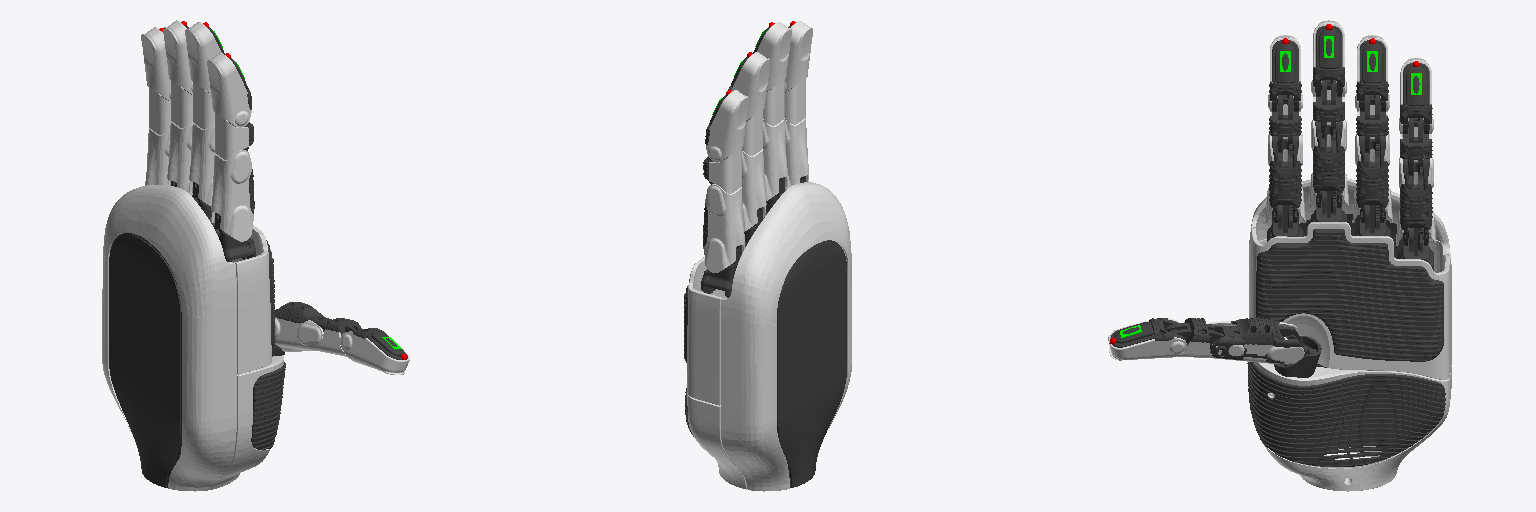
--- Facts derived from the render (not from the file) ---
Views: 3 orthographic renders of the robot side by side, from view 1: azimuth 30°, elevation 25°; view 2: azimuth 150°, elevation 25°; view 3: azimuth 270°, elevation 25°.
Model dexhand021_left with 68 links and 67 joints (20 revolute, 47 fixed), rooted at left_hand_base, posed every joint at zero.
Links seen in each view (by area): view 1: l_p_link6, l_p_link1, l_p_link2, l_f_link2_2_2, l_p_link4, l_f_link2_4_2, l_p_link5, l_f_link3_2_2, l_f_link3_4_2, l_f_link5_4_2, l_f_link1_4_2, l_f_link4_4_2 (+9 smaller); view 2: l_p_link6, l_p_link1, l_p_link2, l_f_link5_2_2, l_p_link4, l_f_link5_4_2, l_f_link4_2_2, l_f_link3_2_2, l_f_link4_4_2, l_f_link3_4_2, l_f_link2_4_2, l_f_link2_2_2 (+5 smaller); view 3: l_p_link3, l_p_link5, l_p_link2, l_p_link4, l_p_link6, l_f_link5_2_1, l_f_link3_2_1, l_f_link2_2_1, l_f_link4_2_1, l_f_link1_4_2, l_f_link1_2, l_f_link1_2_2 (+28 smaller).
Boxes of the visible links, box(x1,y1,x2,y2) form: l_p_link6: box(102, 185, 236, 491); l_p_link1: box(109, 233, 181, 487); l_p_link2: box(232, 225, 271, 374); l_f_link2_2_2: box(211, 150, 253, 241); l_p_link4: box(212, 355, 283, 489); l_f_link2_4_2: box(207, 53, 251, 127); l_p_link5: box(251, 362, 285, 449); l_f_link3_2_2: box(189, 122, 214, 205); l_f_link3_4_2: box(185, 22, 221, 93); l_f_link5_4_2: box(141, 27, 170, 101); l_f_link1_4_2: box(340, 331, 409, 374); l_f_link4_4_2: box(163, 20, 192, 94); l_p_link6: box(721, 182, 851, 491); l_p_link1: box(777, 240, 846, 487); l_p_link2: box(687, 257, 726, 405); l_f_link5_2_2: box(703, 184, 744, 272); l_p_link4: box(687, 393, 746, 489); l_f_link5_4_2: box(706, 90, 748, 162); l_f_link4_2_2: box(742, 149, 766, 231); l_f_link3_2_2: box(763, 118, 787, 200); l_f_link4_4_2: box(731, 52, 770, 120); l_f_link3_4_2: box(757, 22, 791, 90); l_f_link2_4_2: box(785, 21, 812, 91); l_f_link2_2_2: box(785, 118, 808, 189); l_p_link3: box(1256, 229, 1443, 361); l_p_link5: box(1247, 362, 1445, 466); l_p_link2: box(1249, 222, 1451, 379); l_p_link4: box(1254, 362, 1451, 491); l_p_link6: box(1249, 178, 1451, 388); l_f_link5_2_1: box(1400, 184, 1432, 229); l_f_link3_2_1: box(1313, 146, 1344, 192); l_f_link2_2_1: box(1269, 161, 1301, 207); l_f_link4_2_1: box(1356, 161, 1388, 207); l_f_link1_4_2: box(1108, 318, 1186, 360); l_f_link1_2: box(1210, 326, 1302, 363); l_f_link1_2_2: box(1209, 321, 1304, 363).
Bounding box of the posed robot: 0.0957 × 0.1915 × 0.2768 m (x, y, z).
56 mesh visuals loaded from 57 distinct referenced files (56 binary STL); not drawn: 1 (reference not matched to a file when rendering).

The robot description file, URDF, robot "dexhand021_left":
<robot name="dexhand021_left">

  <mujoco>
    <compiler meshdir="../meshes/dexhand021" balanceinertia="true" discardvisual="false" />
  </mujoco>

  <link name="left_hand_base" />

  <joint name="left_base_to_hand" type="fixed">
    <parent link="left_hand_base" />
    <child link="l_p_link0" />
    <origin xyz="0. 0. -0.17" rpy="0 0 1.57" />
  </joint>

  <link name="l_p_link0">
    <inertial>
      <origin xyz="-0.0005340340782799666 -0.0030739671736089423 0.2580979226195014" rpy="0 0 0" />
      <mass value="0.4582127297726252" />
      <inertia ixx="0.0008682603987855573" ixy="-4.647872477702509e-06"
        ixz="-1.9994715059692555e-06" iyy="0.0011955717530257226" iyz="4.26720458052884e-05"
        izz="0.00046834351454589116" />
    </inertial>
    <visual>
      <origin xyz="0 0 0" rpy="0 0 0" />
      <geometry>
        <mesh filename="../meshes/dexhand021/l_p_link0.STL" />
      </geometry>
      <material name="">
        <color rgba="0.3 0.3 0.3 1" />
      </material>
    </visual>
    <collision>
      <origin xyz="0 0 0" rpy="0 0 0" />
      <geometry>
        <mesh filename="../meshes/dexhand021/l_p_link0.STL" />
      </geometry>
    </collision>
  </link>

  <link name="l_f_link1_1">
    <inertial>
      <origin xyz="0.002052234666759825 -0.005273334526360467 -0.017766417143674378" rpy="0 0 0" />
      <mass value="0.005180345836222872" />
      <inertia ixx="1.1430624429635148e-06" ixy="-2.1632825990418803e-08"
        ixz="-9.945444780275452e-08" iyy="1.1661466974877877e-06" iyz="-2.1793835308526277e-07"
        izz="3.1537914003827447e-07" />
    </inertial>
    <visual>
      <origin xyz="0 0 0" rpy="0 0 0" />
      <geometry>
        <mesh filename="../meshes/dexhand021/l_f_link1_1.STL" />
      </geometry>
      <material name="">
        <color rgba="0.3 0.3 0.3 1" />
      </material>
    </visual>
    <collision>
      <origin xyz="0 0 0" rpy="0 0 0" />
      <geometry>
        <mesh filename="../meshes/dexhand021/l_f_link1_1.STL" />
      </geometry>
    </collision>
  </link>

  <joint name="l_f_joint1_1" type="revolute">
    <origin xyz="-0.023855 -0.031204 0.27607" rpy="0 -0.15197 -2.8876" />
    <parent link="l_p_link0" />
    <child link="l_f_link1_1" />
    <axis xyz="0 0.26521 0.96419" />
    <limit lower="0" upper="2.2" effort="10" velocity="1.5" />
    <joint_properties damping="0.3" friction="0.5" />
  </joint>

  <link name="l_f_link1_2">
    <inertial>
      <origin xyz="0.021535504665713627 0.000506377639770679 -0.0008142325238397076" rpy="0 0 0" />
      <mass value="0.005145873046733005" />
      <inertia ixx="2.0955625734077272e-07" ixy="-9.153029438540082e-09"
        ixz="1.1384864653981019e-10" iyy="1.060406958470173e-06" iyz="-1.130625438040032e-09"
        izz="1.044207336185289e-06" />
    </inertial>
    <visual>
      <origin xyz="0 0 0" rpy="0 0 0" />
      <geometry>
        <mesh filename="../meshes/dexhand021/l_f_link1_2.STL" />
      </geometry>
      <material name="">
        <color rgba="0.3 0.3 0.3 1" />
      </material>
    </visual>
    <collision>
      <origin xyz="0 0 0" rpy="0 0 0" />
      <geometry>
        <mesh filename="../meshes/dexhand021/l_f_link1_2.STL" />
      </geometry>
    </collision>
  </link>

  <joint name="l_f_joint1_2" type="revolute">
    <origin xyz="0.0083307 0 0" rpy="1.30243 -0.018415 0.0050658" />
    <parent link="l_f_link1_1" />
    <child link="l_f_link1_2" />
    <axis xyz="0 0 1" />
    <limit lower="0" upper="1.3" effort="10" velocity="1.5" />
    <joint_properties damping="0.3" friction="0.6" />
  </joint>

  <link name="l_f_link1_3">
    <inertial>
      <origin xyz="0.013223206653742587 0.0007239105528827508 -0.0012977744957348464" rpy="0 0 0" />
      <mass value="0.003510129470235022" />
      <inertia ixx="1.0264326739891652e-07" ixy="-1.0034384004261486e-08"
        ixz="1.537174856934156e-09" iyy="3.145228617298639e-07" iyz="-3.5848718337208966e-11"
        izz="3.260539360948065e-07" />
    </inertial>
    <visual>
      <origin xyz="0 0 0" rpy="3.14 0 0" />
      <geometry>
        <mesh filename="../meshes/dexhand021/l_f_link1_3.STL" />
      </geometry>
      <material name="">
        <color rgba="0.3 0.3 0.3 1" />
      </material>
    </visual>
    <collision>
      <origin xyz="0 0 0" rpy="3.14 0 0" />
      <geometry>
        <mesh filename="../meshes/dexhand021/l_f_link1_3.STL" />
      </geometry>
    </collision>
  </link>

  <joint name="l_f_joint1_3" type="revolute">
    <origin xyz="0.043 0 0" rpy="0 0 0" />
    <parent link="l_f_link1_2" />
    <child link="l_f_link1_3" />
    <axis xyz="0 0 1" />
    <limit lower="0" upper="1.3" effort="10" velocity="1.5" />
    <joint_properties damping="0.3" friction="0.6" />
  </joint>

  <link name="l_f_link1_4">
    <inertial>
      <origin xyz="0.016827162591071785 0.002542844173764781 -0.0012898514109792828" rpy="0 0 0" />
      <mass value="0.004357667635534957" />
      <inertia ixx="1.7288868644056656e-07" ixy="-7.193280428920156e-08"
        ixz="-9.525535641984676e-11" iyy="5.475564752014148e-07" iyz="-4.665173458394984e-11"
        izz="5.333289098973524e-07" />
    </inertial>
    <visual>
      <origin xyz="0 0 0" rpy="3.14 0 0" />
      <geometry>
        <mesh filename="../meshes/dexhand021/l_f_link1_4.STL" />
      </geometry>
      <material name="">
        <color rgba="0.3 0.3 0.3 1" />
      </material>
    </visual>
    <collision>
      <origin xyz="0 0 0" rpy="3.14 0 0" />
      <geometry>
        <mesh filename="../meshes/dexhand021/l_f_link1_4.STL" />
      </geometry>
    </collision>
  </link>

  <joint name="l_f_joint1_4" type="revolute">
    <origin xyz="0.025 0 0" rpy="0 0 0" />
    <parent link="l_f_link1_3" />
    <child link="l_f_link1_4" />
    <axis xyz="0 0 1" />
    <limit lower="0" upper="1.3" effort="10" velocity="1.5" />
    <joint_properties damping="0.3" friction="0.6" />
  </joint>

  <link name="l_f_link1_4_1">
    <inertial>
      <origin xyz="0.00976545037672086 -0.006088691115389994 -0.0012928496119325166" rpy="0 0 0" />
      <mass value="0.0003728592379595507" />
      <inertia ixx="1.0806913723931537e-08" ixy="1.4343552260771358e-10"
        ixz="-7.904655850851082e-13" iyy="1.2799737605046901e-08" iyz="9.706813447028242e-14"
        izz="2.9719855154096667e-09" />
    </inertial>
    <visual>
      <origin xyz="0 0 0" rpy="3.14 0 0" />
      <geometry>
        <mesh filename="../meshes/dexhand021/l_f_link1_4_1.STL" />
      </geometry>
      <material name="">
        <color rgba="0.3 0.3 0.3 1" />
      </material>
    </visual>
    <collision>
      <origin xyz="0 0 0" rpy="3.14 0 0" />
      <geometry>
        <mesh filename="../meshes/dexhand021/l_f_link1_4_1.STL" />
      </geometry>
    </collision>
  </link>

  <joint name="l_f_joint1_4_1" type="fixed">
    <origin xyz="0 0 0" rpy="0 0 0" />
    <parent link="l_f_link1_4" />
    <child link="l_f_link1_4_1" />
    <axis xyz="0 0 0" />
  </joint>

  <link name="l_f_link1_4_2">
    <inertial>
      <origin xyz="0.015433183993485528 0.006148726662184262 -0.0012940973222225634" rpy="0 0 0" />
      <mass value="0.0019468120967671353" />
      <inertia ixx="1.4302400339125914e-07" ixy="-4.887309828405806e-08" ixz="5.685919131349908e-11"
        iyy="3.26257386209023e-07" iyz="7.480451441953261e-12" izz="2.8666011571660654e-07" />
    </inertial>
    <visual>
      <origin xyz="0 0 0" rpy="3.14 0 0" />
      <geometry>
        <mesh filename="../meshes/dexhand021/l_f_link1_4_2.STL" />
      </geometry>
      <material name="">
        <color rgba="0.9 0.9 0.9 1" />
      </material>
    </visual>
    <collision>
      <origin xyz="0 0 0" rpy="3.14 0 0" />
      <geometry>
        <mesh filename="../meshes/dexhand021/l_f_link1_4_2.STL" />
      </geometry>
    </collision>
  </link>

  <joint name="l_f_joint1_4_2" type="fixed">
    <origin xyz="0 0 0" rpy="0 0 0" />
    <parent link="l_f_link1_4" />
    <child link="l_f_link1_4_2" />
    <axis xyz="0 0 0" />
  </joint>

  <link name="l_f_link1_3_1">
    <inertial>
      <origin xyz="0.012419626621347997 -0.007723681641112162 -0.001292035727648269" rpy="0 0 0" />
      <mass value="0.0004927439497821334" />
      <inertia ixx="1.4812698827671582e-08" ixy="2.462530333018401e-10" ixz="5.204752318795197e-13"
        iyy="1.6886270323136902e-08" iyz="-7.055265282688354e-13" izz="4.8400028799418825e-09" />
    </inertial>
    <visual>
      <origin xyz="0 0 0" rpy="3.14 0 0" />
      <geometry>
        <mesh filename="../meshes/dexhand021/l_f_link1_3_1.STL" />
      </geometry>
      <material name="">
        <color rgba="0.3 0.3 0.3 1" />
      </material>
    </visual>
    <collision>
      <origin xyz="0 0 0" rpy="3.14 0 0" />
      <geometry>
        <mesh filename="../meshes/dexhand021/l_f_link1_3_1.STL" />
      </geometry>
    </collision>
  </link>

  <joint name="l_f_joint1_3_1" type="fixed">
    <origin xyz="0 0 0" rpy="0 0 0" />
    <parent link="l_f_link1_3" />
    <child link="l_f_link1_3_1" />
    <axis xyz="0 0 0" />
  </joint>

  <link name="l_f_link1_3_2">
    <inertial>
      <origin xyz="0.012938038149695234 0.004966116981932351 -0.0012957151384533254" rpy="0 0 0" />
      <mass value="0.0009264867224319483" />
      <inertia ixx="5.3427012938718874e-08" ixy="-7.101425075294421e-10" ixz="1.771926549530019e-12"
        iyy="7.062474289204522e-08" iyz="1.4720413014316507e-12" izz="4.7550430803969935e-08" />
    </inertial>
    <visual>
      <origin xyz="0 0 0" rpy="3.14 0 0" />
      <geometry>
        <mesh filename="../meshes/dexhand021/l_f_link1_3_2.STL" />
      </geometry>
      <material name="">
        <color rgba="0.9 0.9 0.9 1" />
      </material>
    </visual>
    <collision>
      <origin xyz="0 0 0" rpy="3.14 0 0" />
      <geometry>
        <mesh filename="../meshes/dexhand021/l_f_link1_3_2.STL" />
      </geometry>
    </collision>
  </link>

  <joint name="l_f_joint1_3_2" type="fixed">
    <origin xyz="0 0 0" rpy="0 0 0" />
    <parent link="l_f_link1_3" />
    <child link="l_f_link1_3_2" />
    <axis xyz="0 0 0" />
  </joint>

  <link name="l_f_link1_2_1">
    <inertial>
      <origin xyz="0.020433667197651627 -0.009511001235208358 -0.0012923408126536344" rpy="0 0 0" />
      <mass value="0.001635471969222149" />
      <inertia ixx="4.406768581014031e-08" ixy="-3.6957813553952664e-09"
        ixz="-6.271444654441986e-12" iyy="9.649204412564006e-08" iyz="-3.0566461653670558e-12"
        izz="6.793850270150975e-08" />
    </inertial>
    <visual>
      <origin xyz="0 0 0" rpy="3.14 0 0" />
      <geometry>
        <mesh filename="../meshes/dexhand021/l_f_link1_2_1.STL" />
      </geometry>
      <material name="">
        <color rgba="0.3 0.3 0.3 1" />
      </material>
    </visual>
    <collision>
      <origin xyz="0 0 0" rpy="3.14 0 0" />
      <geometry>
        <mesh filename="../meshes/dexhand021/l_f_link1_2_1.STL" />
      </geometry>
    </collision>
  </link>

  <joint name="l_f_joint1_2_1" type="fixed">
    <origin xyz="0 0 0" rpy="0 0 0" />
    <parent link="l_f_link1_2" />
    <child link="l_f_link1_2_1" />
    <axis xyz="0 0 0" />
  </joint>

  <link name="l_f_link1_2_2">
    <inertial>
      <origin xyz="0.022921501261816545 0.0027716306188103625 -0.0012979021572152708" rpy="0 0 0" />
      <mass value="0.002536590997261413" />
      <inertia ixx="2.2859663761882353e-07" ixy="-1.3411101520302956e-08"
        ixz="-3.0992878304785846e-10" iyy="6.01449052592349e-07" iyz="9.341938224099394e-11"
        izz="5.304297061779193e-07" />
    </inertial>
    <visual>
      <origin xyz="0 0 0" rpy="3.14 0 0" />
      <geometry>
        <mesh filename="../meshes/dexhand021/l_f_link1_2_2.STL" />
      </geometry>
      <material name="">
        <color rgba="0.9 0.9 0.9 1" />
      </material>
    </visual>
    <collision>
      <origin xyz="0 0 0" rpy="3.14 0 0" />
      <geometry>
        <mesh filename="../meshes/dexhand021/l_f_link1_2_2.STL" />
      </geometry>
    </collision>
  </link>

  <joint name="l_f_joint1_2_2" type="fixed">
    <origin xyz="0 0 0" rpy="0 0 0" />
    <parent link="l_f_link1_2" />
    <child link="l_f_link1_2_2" />
    <axis xyz="0 0 0" />
  </joint>

  <link name="l_f_link2_1">
    <inertial>
      <origin xyz="0.008006862264851176 1.8338547498861026e-05 -0.0015842278483306311" rpy="0 0 0" />
      <mass value="0.0035185790405732886" />
      <inertia ixx="2.306698980023173e-07" ixy="-8.218664123414487e-10" ixz="4.890426922121152e-08"
        iyy="3.7198481294084705e-07" iyz="-1.596272919287658e-10" izz="2.98005291680277e-07" />
    </inertial>
    <visual>
      <origin xyz="0 0 0" rpy="0 0 0" />
      <geometry>
        <mesh filename="../meshes/dexhand021/l_f_link2_1.STL" />
      </geometry>
      <material name="">
        <color rgba="0.3 0.3 0.3 1" />
      </material>
    </visual>
    <collision>
      <origin xyz="0 0 0" rpy="0 0 0" />
      <geometry>
        <mesh filename="../meshes/dexhand021/l_f_link2_1.STL" />
      </geometry>
    </collision>
  </link>

  <joint name="l_f_joint2_1" type="revolute">
    <origin xyz="-0.034912 -0.005466 0.3287" rpy="-1.5708 -1.5708 3.1416" />
    <parent link="l_p_link0" />
    <child link="l_f_link2_1" />
    <axis xyz="0 0 1" />
    <limit lower="0" upper="0.6" effort="10" velocity="1.5" />
    <joint_properties damping="0.3" friction="0.6" />
  </joint>

  <link name="l_f_link2_2">
    <inertial>
      <origin xyz="0.0214446795509066 -0.00046289490893132847 -0.000478692708976815" rpy="0 0 0" />
      <mass value="0.004989367448655121" />
      <inertia ixx="2.06447639113428e-07" ixy="8.780455972481956e-09" ixz="-2.955798697224877e-10"
        iyy="1.055201474830906e-06" iyz="-9.019287841410613e-10" izz="1.0401625323233744e-06" />
    </inertial>
    <visual>
      <origin xyz="0 0 0" rpy="0 0 0" />
      <geometry>
        <mesh filename="../meshes/dexhand021/l_f_link2_2.STL" />
      </geometry>
      <material name="">
        <color rgba="0.3 0.3 0.3 1" />
      </material>
    </visual>
    <collision>
      <origin xyz="0 0 0" rpy="0 0 0" />
      <geometry>
        <mesh filename="../meshes/dexhand021/l_f_link2_2.STL" />
      </geometry>
    </collision>
  </link>

  <joint name="l_f_joint2_2" type="revolute">
    <origin xyz="0.017 0 0" rpy="1.5708 0 0" />
    <parent link="l_f_link2_1" />
    <child link="l_f_link2_2" />
    <axis xyz="0 0 1" />
    <limit lower="0" upper="1.3" effort="10" velocity="1.5" />
    <joint_properties damping="0.3" friction="0.6" />
  </joint>

  <link name="l_f_link2_3">
    <inertial>
      <origin xyz="0.013280328692676044 -0.0006199315921701265 -1.7863321659867604e-05" rpy="0 0 0" />
      <mass value="0.003320332898413456" />
      <inertia ixx="9.569221204956009e-08" ixy="1.0826362598447572e-08"
        ixz="-1.6181713632700241e-09" iyy="3.07789315922064e-07" iyz="-8.827964273946318e-11"
        izz="3.2064040293000583e-07" />
    </inertial>
    <visual>
      <origin xyz="0 0 0" rpy="0 0 0" />
      <geometry>
        <mesh filename="../meshes/dexhand021/l_f_link2_3.STL" />
      </geometry>
      <material name="">
        <color rgba="0.3 0.3 0.3 1" />
      </material>
    </visual>
    <collision>
      <origin xyz="0 0 0" rpy="0 0 0" />
      <geometry>
        <mesh filename="../meshes/dexhand021/l_f_link2_3.STL" />
      </geometry>
    </collision>
  </link>

  <joint name="l_f_joint2_3" type="revolute">
    <origin xyz="0.043 0 0" rpy="0 0 0" />
    <parent link="l_f_link2_2" />
    <child link="l_f_link2_3" />
    <axis xyz="0 0 1" />
    <limit lower="0" upper="1.3" effort="10" velocity="1.5" />
    <joint_properties damping="0.3" friction="0.6" />
  </joint>

  <link name="l_f_link2_4">
    <inertial>
      <origin xyz="0.01683572414258611 -0.0025451338947223125 -2.3757913786070927e-06" rpy="0 0 0" />
      <mass value="0.004352952819276659" />
      <inertia ixx="1.7269823390949173e-07" ixy="7.185121764726582e-08" ixz="1.0129621607900475e-10"
        iyy="5.470938126961464e-07" iyz="-4.584118209251816e-11" izz="5.330028956954253e-07" />
    </inertial>
    <visual>
      <origin xyz="0 0 0" rpy="0 0 0" />
      <geometry>
        <mesh filename="../meshes/dexhand021/l_f_link2_4.STL" />
      </geometry>
      <material name="">
        <color rgba="0.3 0.3 0.3 1" />
      </material>
    </visual>
    <collision>
      <origin xyz="0 0 0" rpy="0 0 0" />
      <geometry>
        <mesh filename="../meshes/dexhand021/l_f_link2_4.STL" />
      </geometry>
    </collision>
  </link>

  <joint name="l_f_joint2_4" type="revolute">
    <origin xyz="0.025 0 0" rpy="0 0 0" />
    <parent link="l_f_link2_3" />
    <child link="l_f_link2_4" />
    <axis xyz="0 0 1" />
    <limit lower="0" upper="1.3" effort="10" velocity="1.5" />
    <joint_properties damping="0.3" friction="0.6" />
  </joint>

  <link name="l_f_link2_4_1">
    <inertial>
      <origin xyz="0.009738422454345731 0.005930029867607995 5.184464520528353e-07" rpy="0 0 0" />
      <mass value="0.0003894330192680041" />
      <inertia ixx="1.1761888706684735e-08" ixy="-1.9209378388774791e-10"
        ixz="1.1862845669527616e-12" iyy="1.3432121470992003e-08" iyz="1.5284533403935e-13"
        izz="3.3280605709656387e-09" />
    </inertial>
    <visual>
      <origin xyz="0 0 0" rpy="0 0 0" />
      <geometry>
        <mesh filename="../meshes/dexhand021/l_f_link2_4_1.STL" />
      </geometry>
      <material name="">
        <color rgba="0.3 0.3 0.3 1" />
      </material>
    </visual>
    <collision>
      <origin xyz="0 0 0" rpy="0 0 0" />
      <geometry>
        <mesh filename="../meshes/dexhand021/l_f_link2_4_1.STL" />
      </geometry>
    </collision>
  </link>

  <joint name="l_f_joint2_4_1" type="fixed">
    <origin xyz="0 0 0" rpy="0 0 0" />
    <parent link="l_f_link2_4" />
    <child link="l_f_link2_4_1" />
    <axis xyz="0 0 0" />
  </joint>

  <link name="l_f_link2_4_2">
    <inertial>
      <origin xyz="0.015433183879573308 -0.006148726613435803 1.6634833668023471e-06" rpy="0 0 0" />
      <mass value="0.0019468121678303382" />
      <inertia ixx="1.43024055038343e-07" ixy="4.887309883330071e-08" ixz="-5.680610238538469e-11"
        iyy="3.262574396877791e-07" iyz="7.694528620463915e-12" izz="2.866601186965881e-07" />
    </inertial>
    <visual>
      <origin xyz="0 0 0" rpy="0 0 0" />
      <geometry>
        <mesh filename="../meshes/dexhand021/l_f_link2_4_2.STL" />
      </geometry>
      <material name="">
        <color rgba="0.9 0.9 0.9 1" />
      </material>
    </visual>
    <collision>
      <origin xyz="0 0 0" rpy="0 0 0" />
      <geometry>
        <mesh filename="../meshes/dexhand021/l_f_link2_4_2.STL" />
      </geometry>
    </collision>
  </link>

  <joint name="l_f_joint2_4_2" type="fixed">
    <origin xyz="0 0 0" rpy="0 0 0" />
    <parent link="l_f_link2_4" />
    <child link="l_f_link2_4_2" />
    <axis xyz="0 0 0" />
  </joint>

  <link name="l_f_link2_3_1">
    <inertial>
      <origin xyz="0.012402519029567715 0.00771492069507075 1.7558889501829423e-09" rpy="0 0 0" />
      <mass value="0.0004998303821989263" />
      <inertia ixx="1.512425582589371e-08" ixy="-2.547965438972332e-10" ixz="1.4306517121720027e-13"
        iyy="1.713520438388161e-08" iyz="-1.9604892906129062e-13" izz="4.9359960447247895e-09" />
    </inertial>
    <visual>
      <origin xyz="0 0 0" rpy="0 0 0" />
      <geometry>
        <mesh filename="../meshes/dexhand021/l_f_link2_3_1.STL" />
      </geometry>
      <material name="">
        <color rgba="0.3 0.3 0.3 1" />
      </material>
    </visual>
    <collision>
      <origin xyz="0 0 0" rpy="0 0 0" />
      <geometry>
        <mesh filename="../meshes/dexhand021/l_f_link2_3_1.STL" />
      </geometry>
    </collision>
  </link>

  <joint name="l_f_joint2_3_1" type="fixed">
    <origin xyz="0 0 0" rpy="0 0 0" />
    <parent link="l_f_link2_3" />
    <child link="l_f_link2_3_1" />
    <axis xyz="0 0 0" />
  </joint>

  <link name="l_f_link2_3_2">
    <inertial>
      <origin xyz="0.012938248197779318 -0.004966379635972428 -5.799490468624966e-07" rpy="0 0 0" />
      <mass value="0.0009265838824928249" />
      <inertia ixx="5.3433679145874956e-08" ixy="7.112721953916162e-10" ixz="4.756436715934301e-12"
        iyy="7.063684996215479e-08" iyz="-9.602248319373438e-13" izz="4.7559278625456466e-08" />
    </inertial>
    <visual>
      <origin xyz="0 0 0" rpy="0 0 0" />
      <geometry>
        <mesh filename="../meshes/dexhand021/l_f_link2_3_2.STL" />
      </geometry>
      <material name="">
        <color rgba="0.9 0.9 0.9 1" />
      </material>
    </visual>
    <collision>
      <origin xyz="0 0 0" rpy="0 0 0" />
      <geometry>
        <mesh filename="../meshes/dexhand021/l_f_link2_3_2.STL" />
      </geometry>
    </collision>
  </link>

  <joint name="l_f_joint2_3_2" type="fixed">
    <origin xyz="0 0 0" rpy="0 0 0" />
    <parent link="l_f_link2_3" />
    <child link="l_f_link2_3_2" />
    <axis xyz="0 0 0" />
  </joint>

  <link name="l_f_link2_2_1">
    <inertial>
      <origin xyz="0.02037738640824138 0.008105578472303551 -1.835825070530908e-09" rpy="0 0 0" />
      <mass value="0.0009340644343591185" />
      <inertia ixx="2.7202530997589015e-08" ixy="2.318830577727918e-09" ixz="1.4872477534369214e-12"
        iyy="6.511791793427609e-08" iyz="-3.0048229353993707e-14" izz="4.166928950170176e-08" />
    </inertial>
    <visual>
      <origin xyz="0 0 0" rpy="0 0 0" />
      <geometry>
        <mesh filename="../meshes/dexhand021/l_f_link2_2_1.STL" />
      </geometry>
      <material name="">
        <color rgba="0.3 0.3 0.3 1" />
      </material>
    </visual>
    <collision>
      <origin xyz="0 0 0" rpy="0 0 0" />
      <geometry>
        <mesh filename="../meshes/dexhand021/l_f_link2_2_1.STL" />
      </geometry>
    </collision>
  </link>

  <joint name="l_f_joint2_2_1" type="fixed">
    <origin xyz="0 0 0" rpy="0 0 0" />
    <parent link="l_f_link2_2" />
    <child link="l_f_link2_2_1" />
    <axis xyz="0 0 0" />
  </joint>

  <link name="l_f_link2_2_2">
    <inertial>
      <origin xyz="0.021873800021581503 -0.0029659448659418437 3.42654186750297e-06" rpy="0 0 0" />
      <mass value="0.002679962972544191" />
      <inertia ixx="2.461062629334218e-07" ixy="5.789691111700682e-09" ixz="1.382548386170286e-10"
        iyy="6.71303134378717e-07" iyz="6.228665402457969e-11" izz="5.922202883500984e-07" />
    </inertial>
    <visual>
      <origin xyz="0 0 0" rpy="0 0 0" />
      <geometry>
        <mesh filename="../meshes/dexhand021/l_f_link2_2_2.STL" />
      </geometry>
      <material name="">
        <color rgba="0.9 0.9 0.9 1" />
      </material>
    </visual>
    <collision>
      <origin xyz="0 0 0" rpy="0 0 0" />
      <geometry>
        <mesh filename="../meshes/dexhand021/l_f_link2_2_2.STL" />
      </geometry>
    </collision>
  </link>

  <joint name="l_f_joint2_2_2" type="fixed">
    <origin xyz="0 0 0" rpy="0 0 0" />
    <parent link="l_f_link2_2" />
    <child link="l_f_link2_2_2" />
    <axis xyz="0 0 0" />
  </joint>

  <link name="l_f_link3_1">
    <inertial>
      <origin xyz="0.008006845862113532 2.4430781986466193e-05 -0.0015842278418640794" rpy="0 0 0" />
      <mass value="0.0035185790775859407" />
      <inertia ixx="2.306712335434569e-07" ixy="-9.293912036503249e-10" ixz="4.8904375973568323e-08"
        iyy="3.7198348184027887e-07" iyz="-1.2241591577587476e-10" izz="2.98005295591405e-07" />
    </inertial>
    <visual>
      <origin xyz="0 0 0" rpy="0 0 0" />
      <geometry>
        <mesh filename="../meshes/dexhand021/l_f_link3_1.STL" />
      </geometry>
      <material name="">
        <color rgba="0.3 0.3 0.3 1" />
      </material>
    </visual>
    <collision>
      <origin xyz="0 0 0" rpy="0 0 0" />
      <geometry>
        <mesh filename="../meshes/dexhand021/l_f_link3_1.STL" />
      </geometry>
    </collision>
  </link>

  <joint name="l_f_joint3_1" type="revolute">
    <origin xyz="-0.010612 -0.005466 0.3377" rpy="1.5708 -1.57 0" />
    <parent link="l_p_link0" />
    <child link="l_f_link3_1" />
    <axis xyz="0 0 1" />
    <limit lower="-0.001" upper="0.001" effort="10" velocity="1.5" />
  </joint>

  <link name="l_f_link3_2">
    <inertial>
      <origin xyz="0.021444679550906676 -0.000462894908931048 -0.0004786927089766434" rpy="0 0 0" />
      <mass value="0.004989367448655343" />
      <inertia ixx="2.064476391134477e-07" ixy="8.780455972508192e-09" ixz="-2.9557986970972456e-10"
        iyy="1.0552014748310246e-06" iyz="-9.019287841432917e-10" izz="1.0401625323234898e-06" />
    </inertial>
    <visual>
      <origin xyz="0 0 0" rpy="0 0 0" />
      <geometry>
        <mesh filename="../meshes/dexhand021/l_f_link3_2.STL" />
      </geometry>
      <material name="">
        <color rgba="0.3 0.3 0.3 1" />
      </material>
    </visual>
    <collision>
      <origin xyz="0 0 0" rpy="0 0 0" />
      <geometry>
        <mesh filename="../meshes/dexhand021/l_f_link3_2.STL" />
      </geometry>
    </collision>
  </link>

  <joint name="l_f_joint3_2" type="revolute">
    <origin xyz="0.017 1.2935E-05 0" rpy="1.5708 0 0.00076086" />
    <parent link="l_f_link3_1" />
    <child link="l_f_link3_2" />
    <axis xyz="0 0 1" />
    <limit lower="0" upper="1.3" effort="10" velocity="1.5" />
    <joint_properties damping="0.3" friction="0.6" />
  </joint>

  <link name="l_f_link3_3">
    <inertial>
      <origin xyz="0.013280328692675118 -0.0006199315921702535 -1.7863321659824415e-05" rpy="0 0 0" />
      <mass value="0.0033203328984136053" />
      <inertia ixx="9.569221204956855e-08" ixy="1.0826362598447793e-08"
        ixz="-1.6181713632650656e-09" iyy="3.077893159220978e-07" iyz="-8.827964274264422e-11"
        izz="3.206404029300517e-07" />
    </inertial>
    <visual>
      <origin xyz="0 0 0" rpy="0 0 0" />
      <geometry>
        <mesh filename="../meshes/dexhand021/l_f_link3_3.STL" />
      </geometry>
      <material name="">
        <color rgba="0.3 0.3 0.3 1" />
      </material>
    </visual>
    <collision>
      <origin xyz="0 0 0" rpy="0 0 0" />
      <geometry>
        <mesh filename="../meshes/dexhand021/l_f_link3_3.STL" />
      </geometry>
    </collision>
  </link>

  <joint name="l_f_joint3_3" type="revolute">
    <origin xyz="0.043 0 0" rpy="0 0 0" />
    <parent link="l_f_link3_2" />
    <child link="l_f_link3_3" />
    <axis xyz="0 0 1" />
    <limit lower="0" upper="1.3" effort="10" velocity="1.5" />
    <joint_properties damping="0.3" friction="0.6" />
  </joint>

  <link name="l_f_link3_4">
    <inertial>
      <origin xyz="0.01683572414297905 -0.002545133895002117 -2.375791299186665e-06" rpy="0 0 0" />
      <mass value="0.004352952819355013" />
      <inertia ixx="1.726982339129985e-07" ixy="7.185121765660968e-08" ixz="1.012962108441861e-10"
        iyy="5.47093812718992e-07" iyz="-4.5841181436562026e-11" izz="5.330028957234555e-07" />
    </inertial>
    <visual>
      <origin xyz="0 0 0" rpy="0 0 0" />
      <geometry>
        <mesh filename="../meshes/dexhand021/l_f_link3_4.STL" />
      </geometry>
      <material name="">
        <color rgba="0.3 0.3 0.3 1" />
      </material>
    </visual>
    <collision>
      <origin xyz="0 0 0" rpy="0 0 0" />
      <geometry>
        <mesh filename="../meshes/dexhand021/l_f_link3_4.STL" />
      </geometry>
    </collision>
  </link>

  <joint name="l_f_joint3_4" type="revolute">
    <origin xyz="0.025 0 0" rpy="0 0 0" />
    <parent link="l_f_link3_3" />
    <child link="l_f_link3_4" />
    <axis xyz="0 0 1" />
    <limit lower="0" upper="1.3" effort="10" velocity="1.5" />
    <joint_properties damping="0.3" friction="0.6" />
  </joint>

  <link name="l_f_link3_4_1">
    <inertial>
      <origin xyz="0.00973842245459893 0.005930029867598805 5.184462258307792e-07" rpy="0 0 0" />
      <mass value="0.00038943301930773646" />
      <inertia ixx="1.1761888707777e-08" ixy="-1.9209378388076858e-10" ixz="1.1862851425341784e-12"
        iyy="1.3432121472446845e-08" iyz="1.5284543351379645e-13" izz="3.328060571257918e-09" />
    </inertial>
    <visual>
      <origin xyz="0 0 0" rpy="0 0 0" />
      <geometry>
        <mesh filename="../meshes/dexhand021/l_f_link3_4_1.STL" />
      </geometry>
      <material name="">
        <color rgba="0.3 0.3 0.3 1" />
      </material>
    </visual>
    <collision>
      <origin xyz="0 0 0" rpy="0 0 0" />
      <geometry>
        <mesh filename="../meshes/dexhand021/l_f_link3_4_1.STL" />
      </geometry>
    </collision>
  </link>

  <joint name="l_f_joint3_4_1" type="fixed">
    <origin xyz="0 0 0" rpy="0 0 0" />
    <parent link="l_f_link3_4" />
    <child link="l_f_link3_4_1" />
    <axis xyz="0 0 0" />
  </joint>

  <link name="l_f_link3_4_2">
    <inertial>
      <origin xyz="0.015433183877996647 -0.006148726613474619 1.663483296615289e-06" rpy="0 0 0" />
      <mass value="0.0019468121676849014" />
      <inertia ixx="1.4302405503805395e-07" ixy="4.8873098834891334e-08"
        ixz="-5.6806099502751205e-11" iyy="3.262574396227581e-07" iyz="7.694528690012234e-12"
        izz="2.866601186317795e-07" />
    </inertial>
    <visual>
      <origin xyz="0 0 0" rpy="0 0 0" />
      <geometry>
        <mesh filename="../meshes/dexhand021/l_f_link3_4_2.STL" />
      </geometry>
      <material name="">
        <color rgba="0.9 0.9 0.9 1" />
      </material>
    </visual>
    <collision>
      <origin xyz="0 0 0" rpy="0 0 0" />
      <geometry>
        <mesh filename="../meshes/dexhand021/l_f_link3_4_2.STL" />
      </geometry>
    </collision>
  </link>

  <joint name="l_f_joint3_4_2" type="fixed">
    <origin xyz="0 0 0" rpy="0 0 0" />
    <parent link="l_f_link3_4" />
    <child link="l_f_link3_4_2" />
    <axis xyz="0 0 0" />
    <joint_properties damping="0.3" friction="0.6" />
  </joint>

  <link name="l_f_link3_3_1">
    <inertial>
      <origin xyz="0.012402519029617027 0.007714920695189428 1.7562179048990797e-09" rpy="0 0 0" />
      <mass value="0.0004998303821669769" />
      <inertia ixx="1.5124255824896706e-08" ixy="-2.547965438512407e-10"
        ixz="1.4306529804103833e-13" iyy="1.713520438301633e-08" iyz="-1.9604862408134825e-13"
        izz="4.935996044555037e-09" />
    </inertial>
    <visual>
      <origin xyz="0 0 0" rpy="0 0 0" />
      <geometry>
        <mesh filename="../meshes/dexhand021/l_f_link3_3_1.STL" />
      </geometry>
      <material name="">
        <color rgba="0.3 0.3 0.3 1" />
      </material>
    </visual>
    <collision>
      <origin xyz="0 0 0" rpy="0 0 0" />
      <geometry>
        <mesh filename="../meshes/dexhand021/l_f_link3_3_1.STL" />
      </geometry>
    </collision>
  </link>

  <joint name="l_f_joint3_3_1" type="fixed">
    <origin xyz="0 0 0" rpy="0 0 0" />
    <parent link="l_f_link3_3" />
    <child link="l_f_link3_3_1" />
    <axis xyz="0 0 0" />
  </joint>

  <link name="l_f_link3_3_2">
    <inertial>
      <origin xyz="0.01293824819777932 -0.004966379635972429 -5.799490468630916e-07" rpy="0 0 0" />
      <mass value="0.0009265838824928253" />
      <inertia ixx="5.343367914587497e-08" ixy="7.112721953916162e-10" ixz="4.75643671594095e-12"
        iyy="7.063684996215479e-08" iyz="-9.602248319449433e-13" izz="4.755927862545644e-08" />
    </inertial>
    <visual>
      <origin xyz="0 0 0" rpy="0 0 0" />
      <geometry>
        <mesh filename="../meshes/dexhand021/l_f_link3_3_2.STL" />
      </geometry>
      <material name="">
        <color rgba="0.9 0.9 0.9 1" />
      </material>
    </visual>
    <collision>
      <origin xyz="0 0 0" rpy="0 0 0" />
      <geometry>
        <mesh filename="../meshes/dexhand021/l_f_link3_3_2.STL" />
      </geometry>
    </collision>
  </link>

  <joint name="l_f_joint3_3_2" type="fixed">
    <origin xyz="0 0 0" rpy="0 0 0" />
    <parent link="l_f_link3_3" />
    <child link="l_f_link3_3_2" />
    <axis xyz="0 0 0" />
  </joint>

  <link name="l_f_link3_2_1">
    <inertial>
      <origin xyz="0.020377386408241372 0.00810557847230356 -1.8358250728094052e-09" rpy="0 0 0" />
      <mass value="0.0009340644343591204" />
      <inertia ixx="2.720253099758899e-08" ixy="2.31883057772797e-09" ixz="1.4872477534342653e-12"
        iyy="6.511791793427618e-08" iyz="-3.0048229347118456e-14" izz="4.1669289501701966e-08" />
    </inertial>
    <visual>
      <origin xyz="0 0 0" rpy="0 0 0" />
      <geometry>
        <mesh filename="../meshes/dexhand021/l_f_link3_2_1.STL" />
      </geometry>
      <material name="">
        <color rgba="0.3 0.3 0.3 1" />
      </material>
    </visual>
    <collision>
      <origin xyz="0 0 0" rpy="0 0 0" />
      <geometry>
        <mesh filename="../meshes/dexhand021/l_f_link3_2_1.STL" />
      </geometry>
    </collision>
  </link>

  <joint name="l_f_joint3_2_1" type="fixed">
    <origin xyz="0 0 0" rpy="0 0 0" />
    <parent link="l_f_link3_2" />
    <child link="l_f_link3_2_1" />
    <axis xyz="0 0 0" />
  </joint>

  <link name="l_f_link3_2_2">
    <inertial>
      <origin xyz="0.0218738000215815 -0.0029659448659418615 3.4265418675301415e-06" rpy="0 0 0" />
      <mass value="0.0026799629725441833" />
      <inertia ixx="2.46106262933421e-07" ixy="5.789691111700682e-09" ixz="1.3825483861862077e-10"
        iyy="6.713031343787193e-07" iyz="6.228665402430987e-11" izz="5.922202883501011e-07" />
    </inertial>
    <visual>
      <origin xyz="0 0 0" rpy="0 0 0" />
      <geometry>
        <mesh filename="../meshes/dexhand021/l_f_link3_2_2.STL" />
      </geometry>
      <material name="">
        <color rgba="0.9 0.9 0.9 1" />
      </material>
    </visual>
    <collision>
      <origin xyz="0 0 0" rpy="0 0 0" />
      <geometry>
        <mesh filename="../meshes/dexhand021/l_f_link3_2_2.STL" />
      </geometry>
    </collision>
  </link>

  <joint name="l_f_joint3_2_2" type="fixed">
    <origin xyz="0 0 0" rpy="0 0 0" />
    <parent link="l_f_link3_2" />
    <child link="l_f_link3_2_2" />
    <axis xyz="0 0 0" />
  </joint>

  <link name="l_f_link4_1">
    <inertial>
      <origin xyz="0.008006845858825355 2.4430781841519777e-05 -0.001584227844009538" rpy="0 0 0" />
      <mass value="0.003518579078981058" />
      <inertia ixx="2.3067123359244193e-07" ixy="-9.293912305486018e-10" ixz="4.890437586059445e-08"
        iyy="3.7198348222768516e-07" iyz="-1.2241592207881815e-10" izz="2.9800529593180727e-07" />
    </inertial>
    <visual>
      <origin xyz="0 0 0" rpy="0 0 0" />
      <geometry>
        <mesh filename="../meshes/dexhand021/l_f_link4_1.STL" />
      </geometry>
      <material name="">
        <color rgba="0.3 0.3 0.3 1" />
      </material>
    </visual>
    <collision>
      <origin xyz="0 0 0" rpy="0 0 0" />
      <geometry>
        <mesh filename="../meshes/dexhand021/l_f_link4_1.STL" />
      </geometry>
    </collision>
  </link>

  <joint name="l_f_joint4_1" type="revolute">
    <origin xyz="0.013688 -0.005466 0.3287" rpy="1.5708 -1.57 0" />
    <parent link="l_p_link0" />
    <child link="l_f_link4_1" />
    <axis xyz="0 0 -1" />
    <limit lower="0" upper="0.6" effort="10" velocity="1.5" />
    <joint_properties damping="0.3" friction="0.6" />
  </joint>

  <link name="l_f_link4_2">
    <inertial>
      <origin xyz="0.021444679550906676 -0.0004628949089310474 -0.0004786927089766433" rpy="0 0 0" />
      <mass value="0.004989367448655342" />
      <inertia ixx="2.064476391134477e-07" ixy="8.780455972508096e-09" ixz="-2.955798697096858e-10"
        iyy="1.0552014748310246e-06" iyz="-9.019287841432947e-10" izz="1.0401625323234898e-06" />
    </inertial>
    <visual>
      <origin xyz="0 0 0" rpy="0 0 0" />
      <geometry>
        <mesh filename="../meshes/dexhand021/l_f_link4_2.STL" />
      </geometry>
      <material name="">
        <color rgba="0.3 0.3 0.3 1" />
      </material>
    </visual>
    <collision>
      <origin xyz="0 0 0" rpy="0 0 0" />
      <geometry>
        <mesh filename="../meshes/dexhand021/l_f_link4_2.STL" />
      </geometry>
    </collision>
  </link>

  <joint name="l_f_joint4_2" type="revolute">
    <origin xyz="0.017 1.2935E-05 0" rpy="1.5708 0 0.00076086" />
    <parent link="l_f_link4_1" />
    <child link="l_f_link4_2" />
    <axis xyz="0 0 1" />
    <limit lower="0" upper="1.3" effort="10" velocity="1.5" />
    <joint_properties damping="0.3" friction="0.6" />
  </joint>

  <link name="l_f_link4_3">
    <inertial>
      <origin xyz="0.013280328692675118 -0.0006199315921702535 -1.786332165982431e-05" rpy="0 0 0" />
      <mass value="0.0033203328984136053" />
      <inertia ixx="9.569221204956855e-08" ixy="1.0826362598447793e-08"
        ixz="-1.6181713632650606e-09" iyy="3.077893159220978e-07" iyz="-8.827964274264399e-11"
        izz="3.206404029300517e-07" />
    </inertial>
    <visual>
      <origin xyz="0 0 0" rpy="0 0 0" />
      <geometry>
        <mesh filename="../meshes/dexhand021/l_f_link4_3.STL" />
      </geometry>
      <material name="">
        <color rgba="0.3 0.3 0.3 1" />
      </material>
    </visual>
    <collision>
      <origin xyz="0 0 0" rpy="0 0 0" />
      <geometry>
        <mesh filename="../meshes/dexhand021/l_f_link4_3.STL" />
      </geometry>
    </collision>
  </link>

  <joint name="l_f_joint4_3" type="revolute">
    <origin xyz="0.043 0 0" rpy="0 0 0" />
    <parent link="l_f_link4_2" />
    <child link="l_f_link4_3" />
    <axis xyz="0 0 1" />
    <limit lower="0" upper="1.3" effort="10" velocity="1.5" />
    <joint_properties damping="0.3" friction="0.6" />
  </joint>

  <link name="l_f_link4_4">
    <inertial>
      <origin xyz="0.01683572414297906 -0.002545133895002119 -2.3757912991862224e-06" rpy="0 0 0" />
      <mass value="0.004352952819355011" />
      <inertia ixx="1.7269823391299847e-07" ixy="7.185121765660952e-08" ixz="1.0129621084417013e-10"
        iyy="5.47093812718992e-07" iyz="-4.5841181436572735e-11" izz="5.330028957234553e-07" />
    </inertial>
    <visual>
      <origin xyz="0 0 0" rpy="0 0 0" />
      <geometry>
        <mesh filename="../meshes/dexhand021/l_f_link4_4.STL" />
      </geometry>
      <material name="">
        <color rgba="0.3 0.3 0.3 1" />
      </material>
    </visual>
    <collision>
      <origin xyz="0 0 0" rpy="0 0 0" />
      <geometry>
        <mesh filename="../meshes/dexhand021/l_f_link4_4.STL" />
      </geometry>
    </collision>
  </link>

  <joint name="l_f_joint4_4" type="revolute">
    <origin xyz="0.025 0 0" rpy="0 0 0" />
    <parent link="l_f_link4_3" />
    <child link="l_f_link4_4" />
    <axis xyz="0 0 1" />
    <limit lower="0" upper="1.3" effort="10" velocity="1.5" />
    <joint_properties damping="0.3" friction="0.6" />
  </joint>

  <link name="l_f_link4_4_1">
    <inertial>
      <origin xyz="0.009738422454598935 0.005930029867598804 5.184462258341419e-07" rpy="0 0 0" />
      <mass value="0.00038943301930773673" />
      <inertia ixx="1.1761888707777015e-08" ixy="-1.920937838807718e-10"
        ixz="1.1862851425294855e-12" iyy="1.3432121472446827e-08" iyz="1.5284543351057691e-13"
        izz="3.3280605712578986e-09" />
    </inertial>
    <visual>
      <origin xyz="0 0 0" rpy="0 0 0" />
      <geometry>
        <mesh filename="../meshes/dexhand021/l_f_link4_4_1.STL" />
      </geometry>
      <material name="">
        <color rgba="0.3 0.3 0.3 1" />
      </material>
    </visual>
    <collision>
      <origin xyz="0 0 0" rpy="0 0 0" />
      <geometry>
        <mesh filename="../meshes/dexhand021/l_f_link4_4_1.STL" />
      </geometry>
    </collision>
  </link>

  <joint name="l_f_joint4_4_1" type="fixed">
    <origin xyz="0 0 0" rpy="0 0 0" />
    <parent link="l_f_link4_4" />
    <child link="l_f_link4_4_1" />
    <axis xyz="0 0 0" />
  </joint>

  <link name="l_f_link4_4_2">
    <inertial>
      <origin xyz="0.015433183877996649 -0.006148726613474523 1.6634832966249432e-06" rpy="0 0 0" />
      <mass value="0.0019468121676848738" />
      <inertia ixx="1.4302405503805286e-07" ixy="4.8873098834891486e-08" ixz="-5.68060995027927e-11"
        iyy="3.262574396227582e-07" iyz="7.694528690151449e-12" izz="2.866601186317786e-07" />
    </inertial>
    <visual>
      <origin xyz="0 0 0" rpy="0 0 0" />
      <geometry>
        <mesh filename="../meshes/dexhand021/l_f_link4_4_2.STL" />
      </geometry>
      <material name="">
        <color rgba="0.9 0.9 0.9 1" />
      </material>
    </visual>
    <collision>
      <origin xyz="0 0 0" rpy="0 0 0" />
      <geometry>
        <mesh filename="../meshes/dexhand021/l_f_link4_4_2.STL" />
      </geometry>
    </collision>
  </link>

  <joint name="l_f_joint4_4_2" type="fixed">
    <origin xyz="0 0 0" rpy="0 0 0" />
    <parent link="l_f_link4_4" />
    <child link="l_f_link4_4_2" />
    <axis xyz="0 0 0" />
  </joint>

  <link name="l_f_link4_3_1">
    <inertial>
      <origin xyz="0.012402519029567714 0.00771492069507075 1.755888949884766e-09" rpy="0 0 0" />
      <mass value="0.0004998303821989261" />
      <inertia ixx="1.5124255825893704e-08" ixy="-2.547965438972332e-10"
        ixz="1.4306517121574733e-13" iyy="1.7135204383881664e-08" iyz="-1.9604892906125066e-13"
        izz="4.9359960447248284e-09" />
    </inertial>
    <visual>
      <origin xyz="0 0 0" rpy="0 0 0" />
      <geometry>
        <mesh filename="../meshes/dexhand021/l_f_link4_3_1.STL" />
      </geometry>
      <material name="">
        <color rgba="0.3 0.3 0.3 1" />
      </material>
    </visual>
    <collision>
      <origin xyz="0 0 0" rpy="0 0 0" />
      <geometry>
        <mesh filename="../meshes/dexhand021/l_f_link4_3_1.STL" />
      </geometry>
    </collision>
  </link>

  <joint name="l_f_joint4_3_1" type="fixed">
    <origin xyz="0 0 0" rpy="0 0 0" />
    <parent link="l_f_link4_3" />
    <child link="l_f_link4_3_1" />
    <axis xyz="0 0 0" />
    <joint_properties damping="0.3" friction="0.6" />
  </joint>

  <link name="l_f_link4_3_2">
    <inertial>
      <origin xyz="0.012938248197779318 -0.00496637963597243 -5.799490468624966e-07" rpy="0 0 0" />
      <mass value="0.0009265838824928249" />
      <inertia ixx="5.343367914587494e-08" ixy="7.112721953916162e-10" ixz="4.756436715934301e-12"
        iyy="7.063684996215479e-08" iyz="-9.60224831940789e-13" izz="4.755927862545644e-08" />
    </inertial>
    <visual>
      <origin xyz="0 0 0" rpy="0 0 0" />
      <geometry>
        <mesh filename="../meshes/dexhand021/l_f_link4_3_2.STL" />
      </geometry>
      <material name="">
        <color rgba="0.9 0.9 0.9 1" />
      </material>
    </visual>
    <collision>
      <origin xyz="0 0 0" rpy="0 0 0" />
      <geometry>
        <mesh filename="../meshes/dexhand021/l_f_link4_3_2.STL" />
      </geometry>
    </collision>
  </link>

  <joint name="l_f_joint4_3_2" type="fixed">
    <origin xyz="0 0 0" rpy="0 0 0" />
    <parent link="l_f_link4_3" />
    <child link="l_f_link4_3_2" />
    <axis xyz="0 0 0" />
  </joint>

  <link name="l_f_link4_2_1">
    <inertial>
      <origin xyz="0.02037738640824138 0.008105578472303553 -1.835825070918345e-09" rpy="0 0 0" />
      <mass value="0.0009340644343591187" />
      <inertia ixx="2.7202530997589e-08" ixy="2.318830577727918e-09" ixz="1.4872477534355782e-12"
        iyy="6.511791793427614e-08" iyz="-3.004822935175718e-14" izz="4.166928950170176e-08" />
    </inertial>
    <visual>
      <origin xyz="0 0 0" rpy="0 0 0" />
      <geometry>
        <mesh filename="../meshes/dexhand021/l_f_link4_2_1.STL" />
      </geometry>
      <material name="">
        <color rgba="0.3 0.3 0.3 1" />
      </material>
    </visual>
    <collision>
      <origin xyz="0 0 0" rpy="0 0 0" />
      <geometry>
        <mesh filename="../meshes/dexhand021/l_f_link4_2_1.STL" />
      </geometry>
    </collision>
  </link>

  <joint name="l_f_joint4_2_1" type="fixed">
    <origin xyz="0 0 0" rpy="0 0 0" />
    <parent link="l_f_link4_2" />
    <child link="l_f_link4_2_1" />
    <axis xyz="0 0 0" />
  </joint>

  <link name="l_f_link4_2_2">
    <inertial>
      <origin xyz="0.0218738000215815 -0.0029659448659418593 3.426541867530143e-06" rpy="0 0 0" />
      <mass value="0.002679962972544182" />
      <inertia ixx="2.4610626293342085e-07" ixy="5.789691111700501e-09" ixz="1.3825483861862083e-10"
        iyy="6.713031343787189e-07" iyz="6.228665402437367e-11" izz="5.922202883501009e-07" />
    </inertial>
    <visual>
      <origin xyz="0 0 0" rpy="0 0 0" />
      <geometry>
        <mesh filename="../meshes/dexhand021/l_f_link4_2_2.STL" />
      </geometry>
      <material name="">
        <color rgba="0.9 0.9 0.9 1" />
      </material>
    </visual>
    <collision>
      <origin xyz="0 0 0" rpy="0 0 0" />
      <geometry>
        <mesh filename="../meshes/dexhand021/l_f_link4_2_2.STL" />
      </geometry>
    </collision>
  </link>

  <joint name="l_f_joint4_2_2" type="fixed">
    <origin xyz="0 0 0" rpy="0 0 0" />
    <parent link="l_f_link4_2" />
    <child link="l_f_link4_2_2" />
    <axis xyz="0 0 0" />
  </joint>

  <link name="l_f_link5_1">
    <inertial>
      <origin xyz="0.008006845866748942 2.443078454275862e-05 -0.0015842278420174986" rpy="0 0 0" />
      <mass value="0.0035185790783407995" />
      <inertia ixx="2.3067123352468068e-07" ixy="-9.293912968394032e-10"
        ixz="4.8904375962186106e-08" iyy="3.7198348200499247e-07" iyz="-1.22415919502092e-10"
        izz="2.980052957824027e-07" />
    </inertial>
    <visual>
      <origin xyz="0 0 0" rpy="0 0 0" />
      <geometry>
        <mesh filename="../meshes/dexhand021/l_f_link5_1.STL" />
      </geometry>
      <material name="">
        <color rgba="0.3 0.3 0.3 1" />
      </material>
    </visual>
    <collision>
      <origin xyz="0 0 0" rpy="0 0 0" />
      <geometry>
        <mesh filename="../meshes/dexhand021/l_f_link5_1.STL" />
      </geometry>
    </collision>
  </link>

  <joint name="l_f_joint5_1" type="revolute">
    <origin xyz="0.037988 -0.005466 0.3147" rpy="1.5708 -1.57 0" />
    <parent link="l_p_link0" />
    <child link="l_f_link5_1" />
    <axis xyz="0 0 -1" />
    <limit lower="0" upper="0.6" effort="10" velocity="1.5" />
    <joint_properties damping="0.3" friction="0.6" />
  </joint>

  <link name="l_f_link5_2">
    <inertial>
      <origin xyz="0.021444679550906603 -0.0004628949089313295 -0.0004786927089768149" rpy="0 0 0" />
      <mass value="0.004989367448655121" />
      <inertia ixx="2.0644763911342805e-07" ixy="8.780455972482033e-09" ixz="-2.955798697224554e-10"
        iyy="1.0552014748309056e-06" iyz="-9.019287841410571e-10" izz="1.0401625323233744e-06" />
    </inertial>
    <visual>
      <origin xyz="0 0 0" rpy="0 0 0" />
      <geometry>
        <mesh filename="../meshes/dexhand021/l_f_link5_2.STL" />
      </geometry>
      <material name="">
        <color rgba="0.3 0.3 0.3 1" />
      </material>
    </visual>
    <collision>
      <origin xyz="0 0 0" rpy="0 0 0" />
      <geometry>
        <mesh filename="../meshes/dexhand021/l_f_link5_2.STL" />
      </geometry>
    </collision>
  </link>

  <joint name="l_f_joint5_2" type="revolute">
    <origin xyz="0.017 1.2935E-05 0" rpy="1.5708 0 0.00076086" />
    <parent link="l_f_link5_1" />
    <child link="l_f_link5_2" />
    <axis xyz="0 0 1" />
    <limit lower="0" upper="1.3" effort="10" velocity="1.5" />
    <joint_properties damping="0.3" friction="0.6" />
  </joint>

  <link name="l_f_link5_3">
    <inertial>
      <origin xyz="0.013280328692676044 -0.0006199315921701265 -1.786332165986752e-05" rpy="0 0 0" />
      <mass value="0.003320332898413456" />
      <inertia ixx="9.569221204956008e-08" ixy="1.0826362598447572e-08"
        ixz="-1.6181713632700206e-09" iyy="3.07789315922064e-07" iyz="-8.827964273946297e-11"
        izz="3.2064040293000583e-07" />
    </inertial>
    <visual>
      <origin xyz="0 0 0" rpy="0 0 0" />
      <geometry>
        <mesh filename="../meshes/dexhand021/l_f_link5_3.STL" />
      </geometry>
      <material name="">
        <color rgba="0.3 0.3 0.3 1" />
      </material>
    </visual>
    <collision>
      <origin xyz="0 0 0" rpy="0 0 0" />
      <geometry>
        <mesh filename="../meshes/dexhand021/l_f_link5_3.STL" />
      </geometry>
    </collision>
  </link>

  <joint name="l_f_joint5_3" type="revolute">
    <origin xyz="0.043 0 0" rpy="0 0 0" />
    <parent link="l_f_link5_2" />
    <child link="l_f_link5_3" />
    <axis xyz="0 0 1" />
    <limit lower="0" upper="1.3" effort="10" velocity="1.5" />
    <joint_properties damping="0.3" friction="0.6" />
  </joint>

  <link name="l_f_link5_4">
    <inertial>
      <origin xyz="0.016835724192886106 -0.002545133906660096 -2.3758074399037555e-06" rpy="0 0 0" />
      <mass value="0.00435295285508909" />
      <inertia ixx="1.7269823605463742e-07" ixy="7.185121819677348e-08" ixz="1.0129642341729513e-10"
        iyy="5.470938167123792e-07" iyz="-4.584115393699965e-11" izz="5.330028980408515e-07" />
    </inertial>
    <visual>
      <origin xyz="0 0 0" rpy="0 0 0" />
      <geometry>
        <mesh filename="../meshes/dexhand021/l_f_link5_4.STL" />
      </geometry>
      <material name="">
        <color rgba="0.3 0.3 0.3 1" />
      </material>
    </visual>
    <collision>
      <origin xyz="0 0 0" rpy="0 0 0" />
      <geometry>
        <mesh filename="../meshes/dexhand021/l_f_link5_4.STL" />
      </geometry>
    </collision>
  </link>

  <joint name="l_f_joint5_4" type="revolute">
    <origin xyz="0.025 0 0" rpy="0 0 0" />
    <parent link="l_f_link5_3" />
    <child link="l_f_link5_4" />
    <axis xyz="0 0 1" />
    <limit lower="0" upper="1.3" effort="10" velocity="1.5" />
    <joint_properties damping="0.3" friction="0.6" />
  </joint>

  <link name="l_f_link5_4_1">
    <inertial>
      <origin xyz="0.009738422454345728 0.005930029867607994 5.184464520486871e-07" rpy="0 0 0" />
      <mass value="0.0003894330192680038" />
      <inertia ixx="1.1761888706684732e-08" ixy="-1.9209378388773822e-10"
        ixz="1.186284566958111e-12" iyy="1.3432121470991997e-08" iyz="1.5284533404350157e-13"
        izz="3.328060570965626e-09" />
    </inertial>
    <visual>
      <origin xyz="0 0 0" rpy="0 0 0" />
      <geometry>
        <mesh filename="../meshes/dexhand021/l_f_link5_4_1.STL" />
      </geometry>
      <material name="">
        <color rgba="0.3 0.3 0.3 1" />
      </material>
    </visual>
    <collision>
      <origin xyz="0 0 0" rpy="0 0 0" />
      <geometry>
        <mesh filename="../meshes/dexhand021/l_f_link5_4_1.STL" />
      </geometry>
    </collision>
  </link>

  <joint name="l_f_joint5_4_1" type="fixed">
    <origin xyz="0 0 0" rpy="0 0 0" />
    <parent link="l_f_link5_4" />
    <child link="l_f_link5_4_1" />
    <axis xyz="0 0 0" />
  </joint>

  <link name="l_f_link5_4_2">
    <inertial>
      <origin xyz="0.015433183879573296 -0.006148726613435893 1.6634833667932593e-06" rpy="0 0 0" />
      <mass value="0.0019468121678303657" />
      <inertia ixx="1.4302405503834413e-07" ixy="4.8873098833300977e-08"
        ixz="-5.6806102385408916e-11" iyy="3.2625743968777957e-07" iyz="7.69452862032225e-12"
        izz="2.8666011869658974e-07" />
    </inertial>
    <visual>
      <origin xyz="0 0 0" rpy="0 0 0" />
      <geometry>
        <mesh filename="../meshes/dexhand021/l_f_link5_4_2.STL" />
      </geometry>
      <material name="">
        <color rgba="0.9 0.9 0.9 1" />
      </material>
    </visual>
    <collision>
      <origin xyz="0 0 0" rpy="0 0 0" />
      <geometry>
        <mesh filename="../meshes/dexhand021/l_f_link5_4_2.STL" />
      </geometry>
    </collision>
  </link>

  <joint name="l_f_joint5_4_2" type="fixed">
    <origin xyz="0 0 0" rpy="0 0 0" />
    <parent link="l_f_link5_4" />
    <child link="l_f_link5_4_2" />
    <axis xyz="0 0 0" />
  </joint>

  <link name="l_f_link5_3_1">
    <inertial>
      <origin xyz="0.01240251902961703 0.007714920695189428 1.7562179048990797e-09" rpy="0 0 0" />
      <mass value="0.0004998303821669769" />
      <inertia ixx="1.51242558248967e-08" ixy="-2.5479654385122775e-10" ixz="1.4306529804103833e-13"
        iyy="1.713520438301629e-08" iyz="-1.9604862408102513e-13" izz="4.935996044554998e-09" />
    </inertial>
    <visual>
      <origin xyz="0 0 0" rpy="0 0 0" />
      <geometry>
        <mesh filename="../meshes/dexhand021/l_f_link5_3_1.STL" />
      </geometry>
      <material name="">
        <color rgba="0.3 0.3 0.3 1" />
      </material>
    </visual>
    <collision>
      <origin xyz="0 0 0" rpy="0 0 0" />
      <geometry>
        <mesh filename="../meshes/dexhand021/l_f_link5_3_1.STL" />
      </geometry>
    </collision>
  </link>

  <joint name="l_f_joint5_3_1" type="fixed">
    <origin xyz="0 0 0" rpy="0 0 0" />
    <parent link="l_f_link5_3" />
    <child link="l_f_link5_3_1" />
    <axis xyz="0 0 0" />
  </joint>

  <link name="l_f_link5_3_2">
    <inertial>
      <origin xyz="0.01293824819777932 -0.0049663796359724266 -5.799490468630916e-07" rpy="0 0 0" />
      <mass value="0.0009265838824928253" />
      <inertia ixx="5.343367914587499e-08" ixy="7.11272195391642e-10" ixz="4.75643671594095e-12"
        iyy="7.063684996215479e-08" iyz="-9.602248319449449e-13" izz="4.7559278625456466e-08" />
    </inertial>
    <visual>
      <origin xyz="0 0 0" rpy="0 0 0" />
      <geometry>
        <mesh filename="../meshes/dexhand021/l_f_link5_3_2.STL" />
      </geometry>
      <material name="">
        <color rgba="0.9 0.9 0.9 1" />
      </material>
    </visual>
    <collision>
      <origin xyz="0 0 0" rpy="0 0 0" />
      <geometry>
        <mesh filename="../meshes/dexhand021/l_f_link5_3_2.STL" />
      </geometry>
    </collision>
  </link>

  <joint name="l_f_joint5_3_2" type="fixed">
    <origin xyz="0 0 0" rpy="0 0 0" />
    <parent link="l_f_link5_3" />
    <child link="l_f_link5_3_2" />
    <axis xyz="0 0 0" />
  </joint>

  <link name="l_f_link5_2_1">
    <inertial>
      <origin xyz="0.020377386408241372 0.008105578472303556 -1.8358250731876179e-09" rpy="0 0 0" />
      <mass value="0.0009340644343591205" />
      <inertia ixx="2.7202530997589e-08" ixy="2.318830577727892e-09" ixz="1.487247753432452e-12"
        iyy="6.511791793427614e-08" iyz="-3.0048229349551126e-14" izz="4.1669289501701814e-08" />
    </inertial>
    <visual>
      <origin xyz="0 0 0" rpy="0 0 0" />
      <geometry>
        <mesh filename="../meshes/dexhand021/l_f_link5_2_1.STL" />
      </geometry>
      <material name="">
        <color rgba="0.3 0.3 0.3 1" />
      </material>
    </visual>
    <collision>
      <origin xyz="0 0 0" rpy="0 0 0" />
      <geometry>
        <mesh filename="../meshes/dexhand021/l_f_link5_2_1.STL" />
      </geometry>
    </collision>
  </link>

  <joint name="l_f_joint5_2_1" type="fixed">
    <origin xyz="0 0 0" rpy="0 0 0" />
    <parent link="l_f_link5_2" />
    <child link="l_f_link5_2_1" />
    <axis xyz="0 0 0" />
  </joint>

  <link name="l_f_link5_2_2">
    <inertial>
      <origin xyz="0.021873800021581506 -0.0029659448659418467 3.426541867502968e-06" rpy="0 0 0" />
      <mass value="0.002679962972544193" />
      <inertia ixx="2.46106262933422e-07" ixy="5.789691111700967e-09" ixz="1.382548386171941e-10"
        iyy="6.71303134378717e-07" iyz="6.22866540244921e-11" izz="5.922202883500982e-07" />
    </inertial>
    <visual>
      <origin xyz="0 0 0" rpy="0 0 0" />
      <geometry>
        <mesh filename="../meshes/dexhand021/l_f_link5_2_2.STL" />
      </geometry>
      <material name="">
        <color rgba="0.9 0.9 0.9 1" />
      </material>
    </visual>
    <collision>
      <origin xyz="0 0 0" rpy="0 0 0" />
      <geometry>
        <mesh filename="../meshes/dexhand021/l_f_link5_2_2.STL" />
      </geometry>
    </collision>
  </link>

  <joint name="l_f_joint5_2_2" type="fixed">
    <origin xyz="0 0 0" rpy="0 0 0" />
    <parent link="l_f_link5_2" />
    <child link="l_f_link5_2_2" />
    <axis xyz="0 0 0" />
  </joint>

  <link name="l_p_link1">
    <inertial>
      <origin xyz="-0.039828367122623734 -0.05274778430354539 -0.009532289282993165" rpy="0 0 0" />
      <mass value="0.08402879470191237" />
      <inertia ixx="0.00012061000995335967" ixy="9.17811986947015e-06" ixz="-1.0617175255849679e-05"
        iyy="0.00015463827295592394" iyz="4.4918865703612454e-07" izz="3.900039912950205e-05" />
    </inertial>
    <visual>
      <origin xyz="0 0 0" rpy="0 0 0" />
      <geometry>
        <mesh filename="../meshes/dexhand021/l_p_link1.STL" />
      </geometry>
      <material name="">
        <color rgba="0.3 0.3 0.3 1" />
      </material>
    </visual>
    <collision>
      <origin xyz="0 0 0" rpy="0 0 0" />
      <geometry>
        <mesh filename="../meshes/dexhand021/l_p_link1.STL" />
      </geometry>
    </collision>
  </link>

  <joint name="l_f_joint1" type="fixed">
    <origin xyz="-0.023855 -0.031204 0.27607" rpy="0 -0.15197 -2.8876" />
    <parent link="l_p_link0" />
    <child link="l_p_link1" />
    <axis xyz="0 0 0" />
  </joint>

  <link name="l_p_link2">
    <inertial>
      <origin xyz="-0.02488492263507479 -0.007868276064529948 0.02307958050328564" rpy="0 0 0" />
      <mass value="0.07899885001313191" />
      <inertia ixx="4.9749332651746786e-05" ixy="2.9038341534341812e-05"
        ixz="-7.615778905613395e-06" iyy="0.00015619302190803325" iyz="-1.5002047733083078e-06"
        izz="0.00013058028469968588" />
    </inertial>
    <visual>
      <origin xyz="0 0 0" rpy="0 0 0" />
      <geometry>
        <mesh filename="../meshes/dexhand021/l_p_link2.STL" />
      </geometry>
      <material name="">
        <color rgba="0.9 0.9 0.9 1" />
      </material>
    </visual>
    <collision>
      <origin xyz="0 0 0" rpy="0 0 0" />
      <geometry>
        <mesh filename="../meshes/dexhand021/l_p_link2.STL" />
      </geometry>
    </collision>
  </link>

  <joint name="l_f_joint2" type="fixed">
    <origin xyz="-0.023855 -0.031204 0.27607" rpy="0 -0.15197 -2.8876" />
    <parent link="l_p_link0" />
    <child link="l_p_link2" />
    <axis xyz="0 0 0" />
  </joint>

  <link name="l_p_link3">
    <inertial>
      <origin xyz="-0.023336898526263472 -0.0010207888192092151 0.028962598242239686" rpy="0 0 0" />
      <mass value="0.04403763346723259" />
      <inertia ixx="1.6579592867138346e-05" ixy="8.971445809253096e-06" ixz="-5.369063153578631e-06"
        iyy="4.981163538329432e-05" iyz="7.898498335261686e-07" izz="3.788988071413252e-05" />
    </inertial>
    <visual>
      <origin xyz="0 0 0" rpy="0 0 0" />
      <geometry>
        <mesh filename="../meshes/dexhand021/l_p_link3.STL" />
      </geometry>
      <material name="">
        <color rgba="0.3 0.3 0.3 1" />
      </material>
    </visual>
    <collision>
      <origin xyz="0 0 0" rpy="0 0 0" />
      <geometry>
        <mesh filename="../meshes/dexhand021/l_p_link3.STL" />
      </geometry>
    </collision>
  </link>

  <joint name="l_f_joint3" type="fixed">
    <origin xyz="-0.023855 -0.031204 0.27607" rpy="0 -0.15197 -2.8876" />
    <parent link="l_p_link0" />
    <child link="l_p_link3" />
    <axis xyz="0 0 0" />
  </joint>

  <link name="l_p_link4">
    <inertial>
      <origin xyz="-0.0298413518038466 -0.008258222290757664 -0.049476921582376654" rpy="0 0 0" />
      <mass value="0.08225994389583667" />
      <inertia ixx="5.0882475719932426e-05" ixy="1.945126795867257e-05" ixz="2.3536588759717027e-06"
        iyy="0.00013859469040129445" iyz="-5.800266232654319e-06" izz="0.00011170513744198432" />
    </inertial>
    <visual>
      <origin xyz="0 0 0" rpy="0 0 0" />
      <geometry>
        <mesh filename="../meshes/dexhand021/l_p_link4.STL" />
      </geometry>
      <material name="">
        <color rgba="0.9 0.9 0.9 1" />
      </material>
    </visual>
    <collision>
      <origin xyz="0 0 0" rpy="0 0 0" />
      <geometry>
        <mesh filename="../meshes/dexhand021/l_p_link4.STL" />
      </geometry>
    </collision>
  </link>

  <joint name="l_f_joint4" type="fixed">
    <origin xyz="-0.023855 -0.031204 0.27607" rpy="0 -0.15197 -2.8876" />
    <parent link="l_p_link0" />
    <child link="l_p_link4" />
    <axis xyz="0 0 0" />
  </joint>

  <link name="l_p_link5">
    <inertial>
      <origin xyz="-0.022805157908453312 -0.0024278245134679364 -0.04288462820007344" rpy="0 0 0" />
      <mass value="0.022514206360667064" />
      <inertia ixx="6.7369327810856215e-06" ixy="5.241430166013195e-06" ixz="1.6760244119235387e-06"
        iyy="2.6534908658798778e-05" iyz="-6.111874746116537e-07" izz="2.379982124206274e-05" />
    </inertial>
    <visual>
      <origin xyz="0 0 0" rpy="0 0 0" />
      <geometry>
        <mesh filename="../meshes/dexhand021/l_p_link5.STL" />
      </geometry>
      <material name="">
        <color rgba="0.3 0.3 0.3 1" />
      </material>
    </visual>
    <collision>
      <origin xyz="0 0 0" rpy="0 0 0" />
      <geometry>
        <mesh filename="../meshes/dexhand021/l_p_link5.STL" />
      </geometry>
    </collision>
  </link>

  <joint name="l_f_joint5" type="fixed">
    <origin xyz="-0.023855 -0.031204 0.27607" rpy="0 -0.15197 -2.8876" />
    <parent link="l_p_link0" />
    <child link="l_p_link5" />
    <axis xyz="0 0 0" />
  </joint>

  <link name="l_p_link6">
    <inertial>
      <origin xyz="-0.035361125195284254 -0.04343591968543961 0.006711846346217487" rpy="0 0 0" />
      <mass value="0.11250344206877806" />
      <inertia ixx="0.0003119200809517767" ixy="5.040397379052519e-05" ixz="-2.1005345326720503e-05"
        iyy="0.0004997982676351444" iyz="4.3512292769422553e-07" izz="0.00022471126846159207" />
    </inertial>
    <visual>
      <origin xyz="0 0 0" rpy="0 0 0" />
      <geometry>
        <mesh filename="../meshes/dexhand021/l_p_link6.STL" />
      </geometry>
      <material name="">
        <color rgba="0.9 0.9 0.9 1" />
      </material>
    </visual>
    <collision>
      <origin xyz="0 0 0" rpy="0 0 0" />
      <geometry>
        <mesh filename="../meshes/dexhand021/l_p_link6.STL" />
      </geometry>
    </collision>
  </link>

  <joint name="l_f_joint6" type="fixed">
    <origin xyz="-0.023855 -0.031204 0.27607" rpy="0 -0.15197 -2.8876" />
    <parent link="l_p_link0" />
    <child link="l_p_link6" />
    <axis xyz="0 0 0" />
  </joint>

  <link name="l_f_link1_tip">
    <inertial>
      <origin xyz="0 0 0" rpy="0 0 0" />
      <mass value="0.001" />
      <inertia ixx="1.0E-09" ixy="0.0" ixz="0.0" iyy="1.0E-09" iyz="0.0" izz="1.0E-09" />
    </inertial>
    <visual>
      <origin xyz="0 0 0" rpy="0 0 0" />
      <geometry>
        <sphere radius="0.002" />
      </geometry>
      <material name="">
        <color rgba="1 0 0 1" />
      </material>
    </visual>
    <collision>
      <origin xyz="0 0 0" rpy="0 0 0" />
      <geometry>
        <sphere radius="0.002" />
      </geometry>
    </collision>
  </link>

  <joint name="l_f_joint1_tip" type="fixed">
    <origin xyz="0.035 -0.004 0" rpy="0 0 0" />
    <parent link="l_f_link1_4" />
    <child link="l_f_link1_tip" />
  </joint>

  <link name="l_f_link2_tip">
    <inertial>
      <origin xyz="0 0 0" rpy="0 0 0" />
      <mass value="0.001" />
      <inertia ixx="1.0E-09" ixy="0.0" ixz="0.0" iyy="1.0E-09" iyz="0.0" izz="1.0E-09" />
    </inertial>
    <visual>
      <origin xyz="0 0 0" rpy="0 0 0" />
      <geometry>
        <sphere radius="0.002" />
      </geometry>
      <material name="">
        <color rgba="1 0 0 1" />
      </material>
    </visual>
    <collision>
      <origin xyz="0 0 0" rpy="0 0 0" />
      <geometry>
        <sphere radius="0.002" />
      </geometry>
    </collision>
  </link>

  <joint name="l_f_joint2_tip" type="fixed">
    <origin xyz="0.035 -0.004 0" rpy="0 0 0" />
    <parent link="l_f_link2_4" />
    <child link="l_f_link2_tip" />
  </joint>

  <link name="l_f_link3_tip">
    <inertial>
      <origin xyz="0 0 0" rpy="0 0 0" />
      <mass value="0.001" />
      <inertia ixx="1.0E-09" ixy="0.0" ixz="0.0" iyy="1.0E-09" iyz="0.0" izz="1.0E-09" />
    </inertial>
    <visual>
      <origin xyz="0 0 0" rpy="0 0 0" />
      <geometry>
        <sphere radius="0.002" />
      </geometry>
      <material name="">
        <color rgba="1 0 0 1" />
      </material>
    </visual>
    <collision>
      <origin xyz="0 0 0" rpy="0 0 0" />
      <geometry>
        <sphere radius="0.002" />
      </geometry>
    </collision>
  </link>

  <joint name="l_f_joint3_tip" type="fixed">
    <origin xyz="0.035 -0.004 0" rpy="0 0 0" />
    <parent link="l_f_link3_4" />
    <child link="l_f_link3_tip" />
  </joint>

  <link name="l_f_link4_tip">
    <inertial>
      <origin xyz="0 0 0" rpy="0 0 0" />
      <mass value="0.001" />
      <inertia ixx="1.0E-09" ixy="0.0" ixz="0.0" iyy="1.0E-09" iyz="0.0" izz="1.0E-09" />
    </inertial>
    <visual>
      <origin xyz="0 0 0" rpy="0 0 0" />
      <geometry>
        <sphere radius="0.002" />
      </geometry>
      <material name="">
        <color rgba="1 0 0 1" />
      </material>
    </visual>
    <collision>
      <origin xyz="0 0 0" rpy="0 0 0" />
      <geometry>
        <sphere radius="0.002" />
      </geometry>
    </collision>
  </link>

  <joint name="l_f_joint4_tip" type="fixed">
    <origin xyz="0.035 -0.004 0" rpy="0 0 0" />
    <parent link="l_f_link4_4" />
    <child link="l_f_link4_tip" />
  </joint>

  <link name="l_f_link5_tip">
    <inertial>
      <origin xyz="0 0 0" rpy="0 0 0" />
      <mass value="0.001" />
      <inertia ixx="1.0E-09" ixy="0.0" ixz="0.0" iyy="1.0E-09" iyz="0.0" izz="1.0E-09" />
    </inertial>
    <visual>
      <origin xyz="0 0 0" rpy="0 0 0" />
      <geometry>
        <sphere radius="0.002" />
      </geometry>
      <material name="">
        <color rgba="1 0 0 1" />
      </material>
    </visual>
    <collision>
      <origin xyz="0 0 0" rpy="0 0 0" />
      <geometry>
        <sphere radius="0.002" />
      </geometry>
    </collision>
  </link>

  <joint name="l_f_joint5_tip" type="fixed">
    <origin xyz="0.035 -0.004 0" rpy="0 0 0" />
    <parent link="l_f_link5_4" />
    <child link="l_f_link5_tip" />
  </joint>

  <link name="l_f_link1_pad">
    <inertial>
      <origin xyz="0 0 0" rpy="0 0 0" />
      <mass value="0.001" />
      <inertia ixx="1.0E-09" ixy="0.0" ixz="0.0" iyy="1.0E-09" iyz="0.0" izz="1.0E-09" />
    </inertial>
    <visual>
      <origin xyz="0 0 0" rpy="0 0 0" />
      <geometry>
        <box size="0.012 0.001 0.006" />
      </geometry>
      <material name="">
        <color rgba="0 1 0 1" />
      </material>
    </visual>
    <collision>
      <origin xyz="0 0 0" rpy="0 0 0" />
      <geometry>
        <box size="0.012 0.001 0.006" />
      </geometry>
    </collision>
  </link>

  <joint name="l_f_joint1_pad" type="fixed">
    <origin xyz="0.026 0.0025 0.001" rpy="0 0 -0.45" />
    <parent link="l_f_link1_4" />
    <child link="l_f_link1_pad" />
  </joint>

  <link name="l_f_link2_pad">
    <inertial>
      <origin xyz="0 0 0" rpy="0 0 0" />
      <mass value="0.001" />
      <inertia ixx="1.0E-09" ixy="0.0" ixz="0.0" iyy="1.0E-09" iyz="0.0" izz="1.0E-09" />
    </inertial>
    <visual>
      <origin xyz="0 0 0" rpy="0 0 0" />
      <geometry>
        <box size="0.012 0.001 0.006" />
      </geometry>
      <material name="">
        <color rgba="0 1 0 1" />
      </material>
    </visual>
    <collision>
      <origin xyz="0 0 0" rpy="0 0 0" />
      <geometry>
        <box size="0.012 0.001 0.006" />
      </geometry>
    </collision>
  </link>

  <joint name="l_f_joint2_pad" type="fixed">
    <origin xyz="0.026 0.0025 0.000" rpy="0 0 -0.45" />
    <parent link="l_f_link2_4" />
    <child link="l_f_link2_pad" />
  </joint>

  <link name="l_f_link3_pad">
    <inertial>
      <origin xyz="0 0 0" rpy="0 0 0" />
      <mass value="0.001" />
      <inertia ixx="1.0E-09" ixy="0.0" ixz="0.0" iyy="1.0E-09" iyz="0.0" izz="1.0E-09" />
    </inertial>
    <visual>
      <origin xyz="0 0 0" rpy="0 0 0" />
      <geometry>
        <box size="0.012 0.001 0.006" />
      </geometry>
      <material name="">
        <color rgba="0 1 0 1" />
      </material>
    </visual>
    <collision>
      <origin xyz="0 0 0" rpy="0 0 0" />
      <geometry>
        <box size="0.012 0.001 0.006" />
      </geometry>
    </collision>
  </link>

  <joint name="l_f_joint3_pad" type="fixed">
    <origin xyz="0.026 0.0025 0.000" rpy="0 0 -0.45" />
    <parent link="l_f_link3_4" />
    <child link="l_f_link3_pad" />
  </joint>

  <link name="l_f_link4_pad">
    <inertial>
      <origin xyz="0 0 0" rpy="0 0 0" />
      <mass value="0.001" />
      <inertia ixx="1.0E-09" ixy="0.0" ixz="0.0" iyy="1.0E-09" iyz="0.0" izz="1.0E-09" />
    </inertial>
    <visual>
      <origin xyz="0 0 0" rpy="0 0 0" />
      <geometry>
        <box size="0.012 0.001 0.006" />
      </geometry>
      <material name="">
        <color rgba="0 1 0 1" />
      </material>
    </visual>
    <collision>
      <origin xyz="0 0 0" rpy="0 0 0" />
      <geometry>
        <box size="0.012 0.001 0.006" />
      </geometry>
    </collision>
  </link>

  <joint name="l_f_joint4_pad" type="fixed">
    <origin xyz="0.026 0.0025 0.000" rpy="0 0 -0.45" />
    <parent link="l_f_link4_4" />
    <child link="l_f_link4_pad" />
  </joint>

  <link name="l_f_link5_pad">
    <inertial>
      <origin xyz="0 0 0" rpy="0 0 0" />
      <mass value="0.001" />
      <inertia ixx="1.0E-09" ixy="0.0" ixz="0.0" iyy="1.0E-09" iyz="0.0" izz="1.0E-09" />
    </inertial>
    <visual>
      <origin xyz="0 0 0" rpy="0 0 0" />
      <geometry>
        <box size="0.012 0.001 0.006" />
      </geometry>
      <material name="">
        <color rgba="0 1 0 1" />
      </material>
    </visual>
    <collision>
      <origin xyz="0 0 0" rpy="0 0 0" />
      <geometry>
        <box size="0.012 0.001 0.006" />
      </geometry>
    </collision>
  </link>

  <joint name="l_f_joint5_pad" type="fixed">
    <origin xyz="0.026 0.0025 0.000" rpy="0 0 -0.45" />
    <parent link="l_f_link5_4" />
    <child link="l_f_link5_pad" />
  </joint>
</robot>
